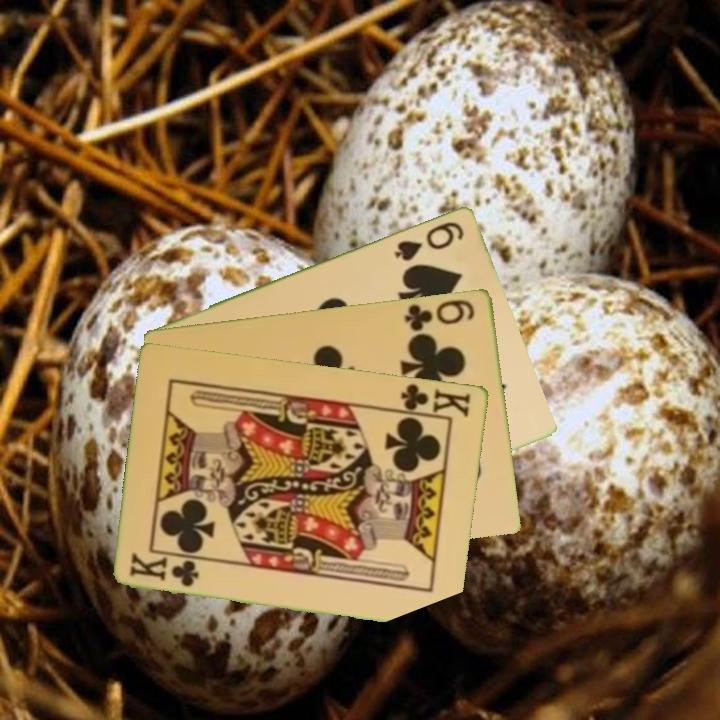6c: (401, 295, 478, 334)
6s: (391, 217, 467, 264)
Kc: (392, 380, 474, 420), (126, 551, 203, 589)
